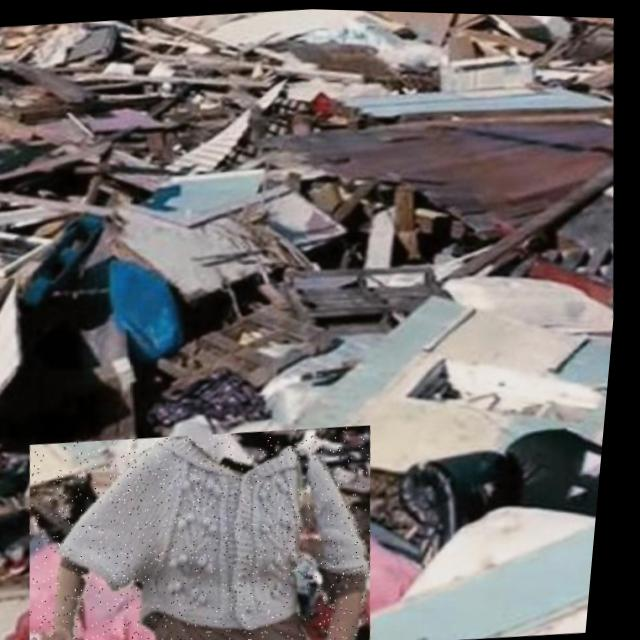Person in Rubble: (23, 414, 396, 640)
